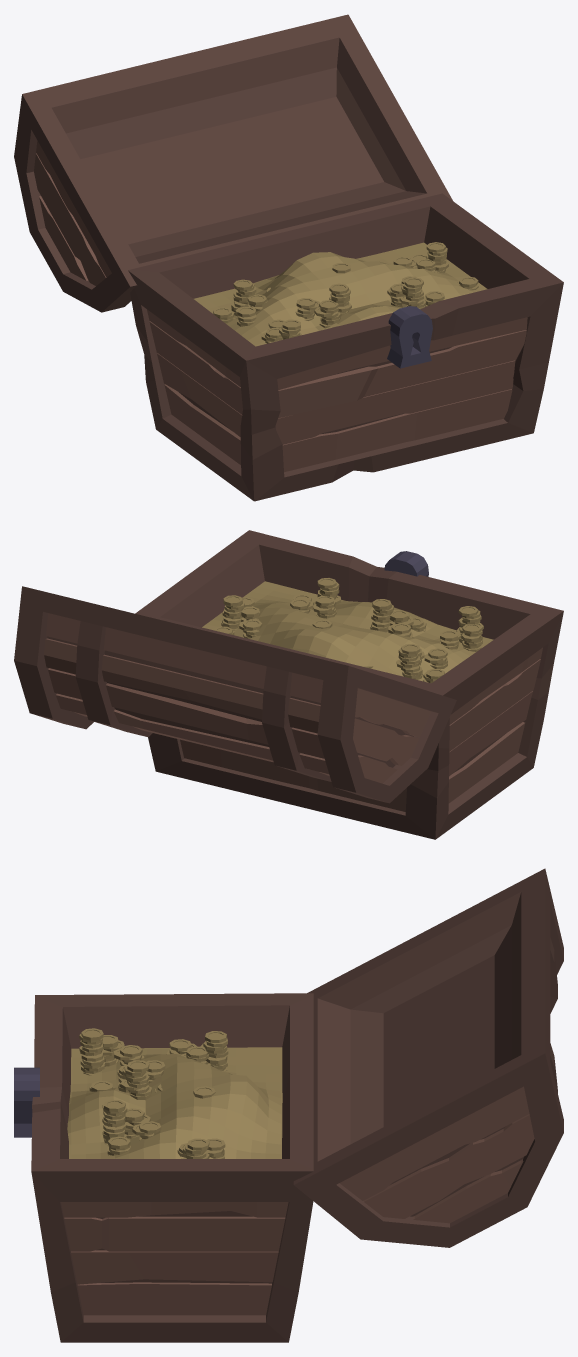
File: Chest_Gold.glb
The picture shows the model from 3 angles, top to bottom: view 1: azimuth 30°, elevation 25°; view 2: azimuth 150°, elevation 25°; view 3: azimuth 270°, elevation 25°; orthographic projection. The views are drawn at different scales.
Visible parts, largest first — view 1: Chest_Base, Chest_Top; view 2: Chest_Base, Chest_Top; view 3: Chest_Base, Chest_Top.
Boxes of the visible parts, left/top/right/bottom form: Chest_Base: left=128, top=193, right=563, bottom=501; Chest_Top: left=14, top=14, right=452, bottom=312; Chest_Base: left=135, top=530, right=563, bottom=839; Chest_Top: left=14, top=586, right=456, bottom=803; Chest_Base: left=14, top=993, right=313, bottom=1342; Chest_Top: left=293, top=868, right=563, bottom=1247.
Size of the model in its own units: 1.18 by 0.8994 by 1.48.
